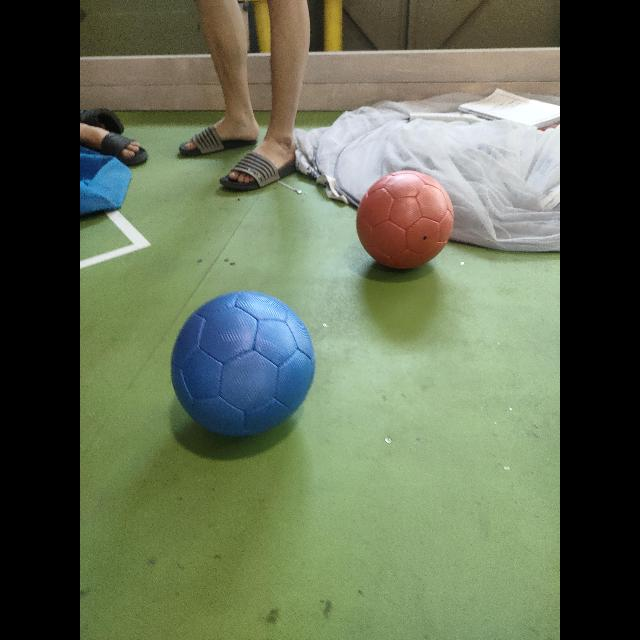B: (171, 291, 315, 436)
R: (356, 170, 454, 269)
